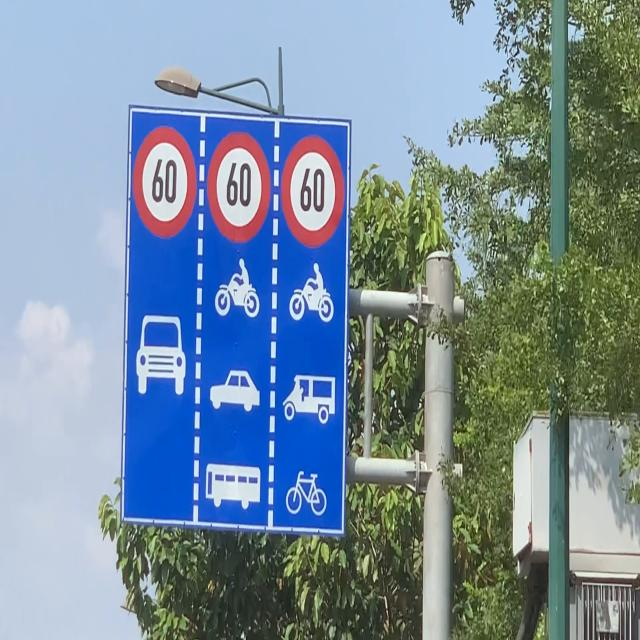Toc do toi da: (133, 125, 197, 239), (281, 134, 344, 248), (207, 132, 271, 244)
